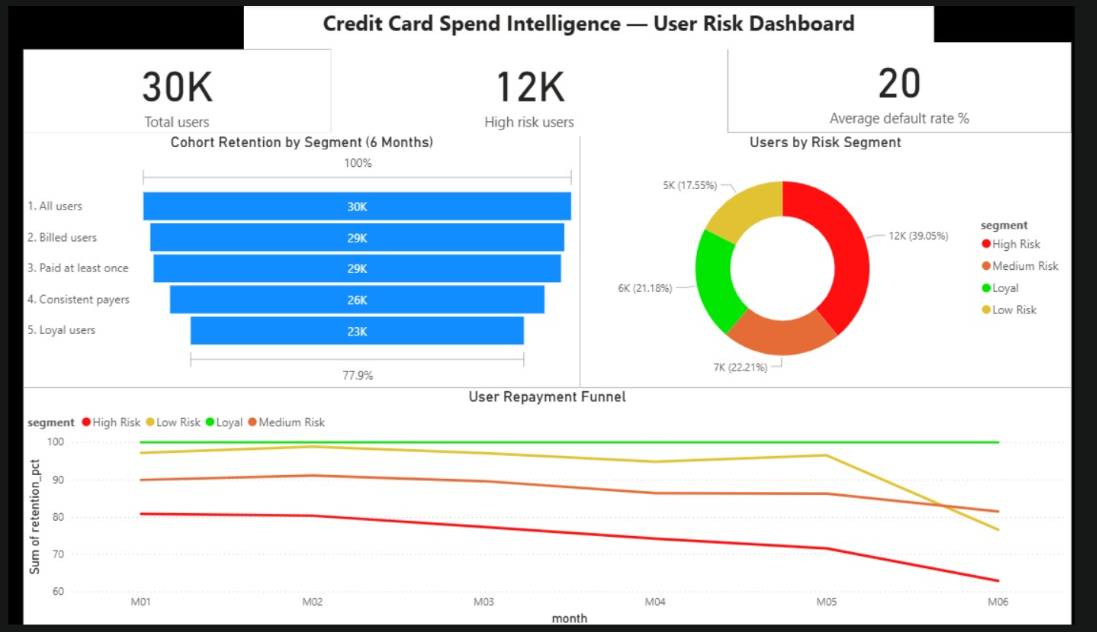

What the dashboard file says about the page in this screenshot:
{"tool":"powerbi","page":{"name":"Page 1","canvas":[1280,720],"ordinal":0},"visuals":[{"type":"card","title":"Total users","fields":{"Values":["Sum(segment_summary.users)"]},"box":[48,52.1,354,96.1],"z":0},{"type":"card","fields":{"Values":["Sum(segment_summary.users)"]},"box":[402.1,48,456.9,104.3],"z":1},{"type":"card","fields":{"Values":["Avg(segment_summary.default_rate)"]},"box":[859,43.9,395.2,104.3],"z":2},{"type":"funnel","title":"Cohort Retention by Segment (6 Months)","fields":{"Category":["funnel.stage"],"Y":["Sum(funnel.users)"]},"box":[48,148.2,640.8,293.7],"z":3},{"type":"donutChart","title":"Users by Risk Segment","fields":{"Category":["segment_summary.segment"],"Y":["Sum(segment_summary.users)"]},"box":[688.9,148.2,565.4,293.7],"z":4},{"type":"lineChart","title":"User Repayment Funnel","fields":{"Y":["Sum(segment_retention.retention_pct)"],"Series":["segment_retention.segment"],"Category":["segment_retention.month"]},"box":[48,441.9,1206.2,278.6],"z":5},{"type":"textbox","box":[301.9,0,794.5,52.1],"z":7}]}

Visuals, with their boxes in screenshot pixels (x1, y1, x2, y2), scaled from the page's 1280x720 canvas onto the 1097x632 screenshot:
"Total users" card: x1=41 y1=46 x2=345 y2=130
card - Sum(segment_summary.users): x1=345 y1=42 x2=736 y2=134
card - Avg(segment_summary.default_rate): x1=736 y1=39 x2=1075 y2=130
"Cohort Retention by Segment (6 Months)" funnel: x1=41 y1=130 x2=590 y2=388
"Users by Risk Segment" donutChart: x1=590 y1=130 x2=1075 y2=388
"User Repayment Funnel" lineChart: x1=41 y1=388 x2=1075 y2=631
textbox: x1=259 y1=0 x2=940 y2=46
